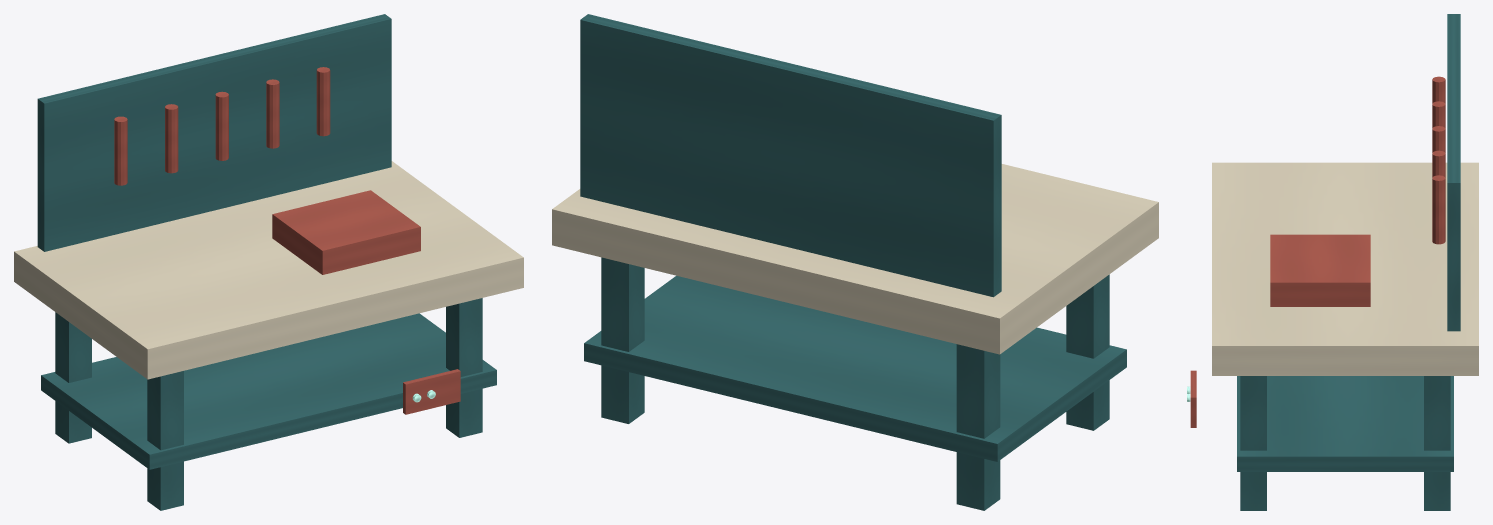
File: atlas100-s032-a02.glb
3 views of the same model, side by side, from view 1: azimuth 30°, elevation 25°; view 2: azimuth 150°, elevation 25°; view 3: azimuth 270°, elevation 25° (orthographic). The views are drawn at different scales.
Parts seen in each view (by area): view 1: atlas100-s032-a02:part-004, atlas100-s032-a02:part-006, atlas100-s032-a02:part-005, atlas100-s032-a02:part-012, atlas100-s032-a02:part-001, atlas100-s032-a02:part-003, atlas100-s032-a02:part-000, atlas100-s032-a02:part-013, atlas100-s032-a02:part-011, atlas100-s032-a02:part-007, atlas100-s032-a02:part-010, atlas100-s032-a02:part-008 (+1 smaller); view 2: atlas100-s032-a02:part-006, atlas100-s032-a02:part-005, atlas100-s032-a02:part-004, atlas100-s032-a02:part-000, atlas100-s032-a02:part-002, atlas100-s032-a02:part-001; view 3: atlas100-s032-a02:part-004, atlas100-s032-a02:part-005, atlas100-s032-a02:part-012, atlas100-s032-a02:part-006, atlas100-s032-a02:part-002, atlas100-s032-a02:part-003, atlas100-s032-a02:part-011, atlas100-s032-a02:part-013, atlas100-s032-a02:part-008, atlas100-s032-a02:part-007, atlas100-s032-a02:part-010, atlas100-s032-a02:part-009.
Boxes of the visible parts, x1,y1,x2,y2 form: atlas100-s032-a02:part-004: (14,161,523,379); atlas100-s032-a02:part-006: (37,14,391,251); atlas100-s032-a02:part-005: (41,313,496,469); atlas100-s032-a02:part-012: (272,190,420,274); atlas100-s032-a02:part-001: (147,371,183,510); atlas100-s032-a02:part-003: (446,298,482,437); atlas100-s032-a02:part-000: (55,312,91,443); atlas100-s032-a02:part-013: (403,369,460,414); atlas100-s032-a02:part-011: (316,67,330,136); atlas100-s032-a02:part-007: (114,116,127,185); atlas100-s032-a02:part-010: (266,79,279,148); atlas100-s032-a02:part-008: (165,104,178,173); atlas100-s032-a02:part-006: (580,14,1001,297); atlas100-s032-a02:part-005: (584,275,1126,461); atlas100-s032-a02:part-004: (552,164,1158,354); atlas100-s032-a02:part-000: (956,344,1000,510); atlas100-s032-a02:part-002: (601,257,644,423); atlas100-s032-a02:part-001: (1066,274,1109,430); atlas100-s032-a02:part-004: (1212,162,1478,375); atlas100-s032-a02:part-005: (1237,376,1453,471); atlas100-s032-a02:part-012: (1270,234,1370,306); atlas100-s032-a02:part-006: (1447,14,1460,331); atlas100-s032-a02:part-002: (1424,376,1450,510); atlas100-s032-a02:part-003: (1240,376,1266,510); atlas100-s032-a02:part-011: (1432,175,1445,244); atlas100-s032-a02:part-013: (1190,370,1196,427); atlas100-s032-a02:part-008: (1432,101,1445,128); atlas100-s032-a02:part-007: (1432,76,1445,103); atlas100-s032-a02:part-010: (1432,150,1445,177); atlas100-s032-a02:part-009: (1432,126,1445,152).
Bounding box in the file's own units: 2.6 × 2.21 × 1.75.
4 materials, 4 textured.
